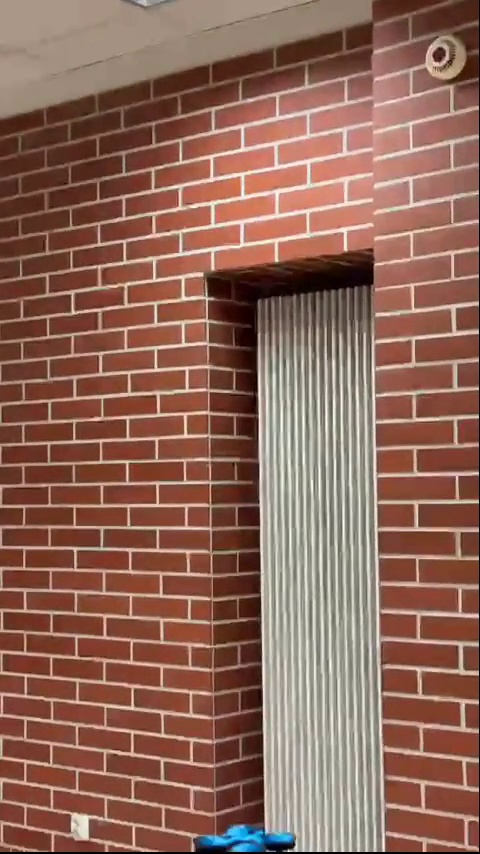drone: (188, 819, 297, 851)
